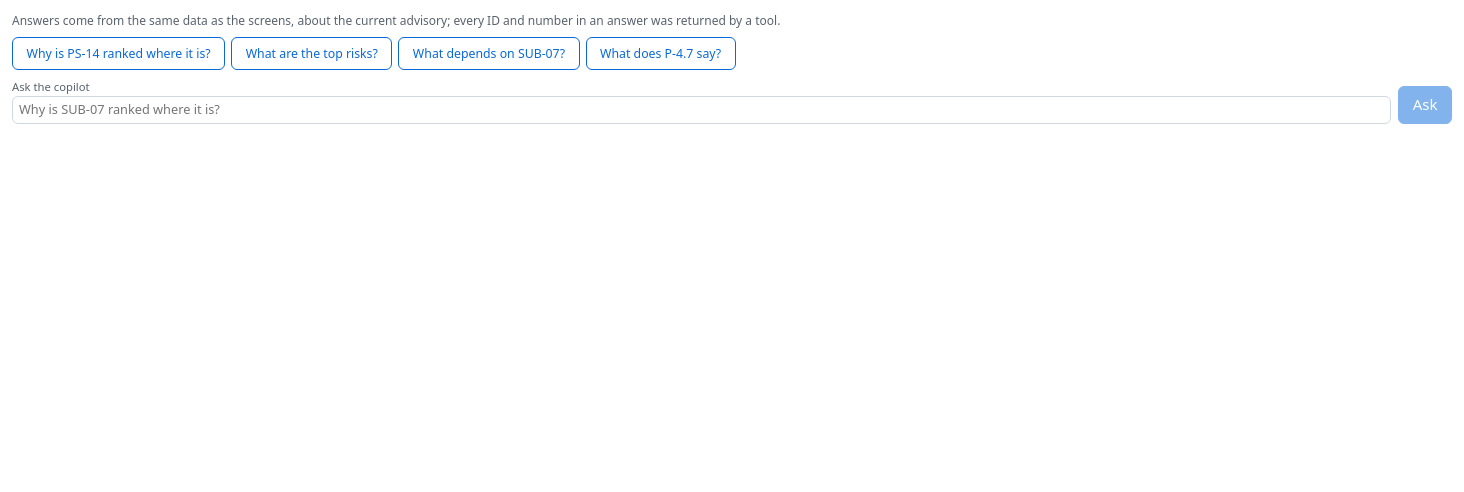
Test: a template fallback says the answer was not validated and why
What coordinates should you click on to do the following:
click the button "Why is PS-14 ranked where it is?"
I would click on:
 (119, 54)
Its box is [12,37,225,70].
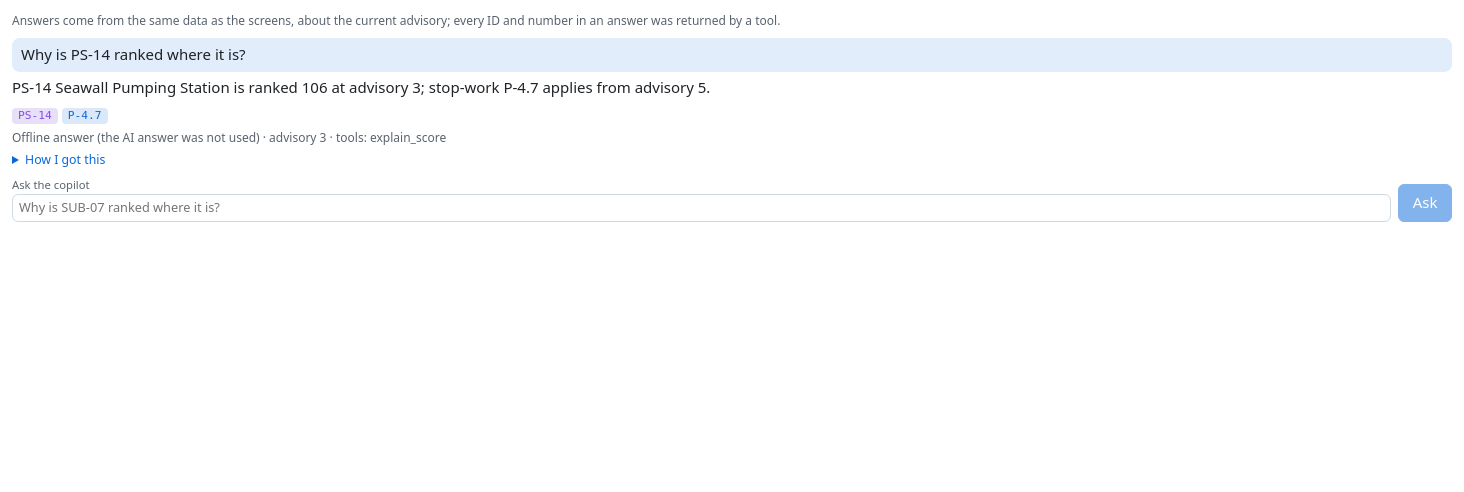
What coordinates should you click on to do the following:
click the heading "How I got this"
I would click on:
 (65, 159)
Its box is [25,151,105,168].
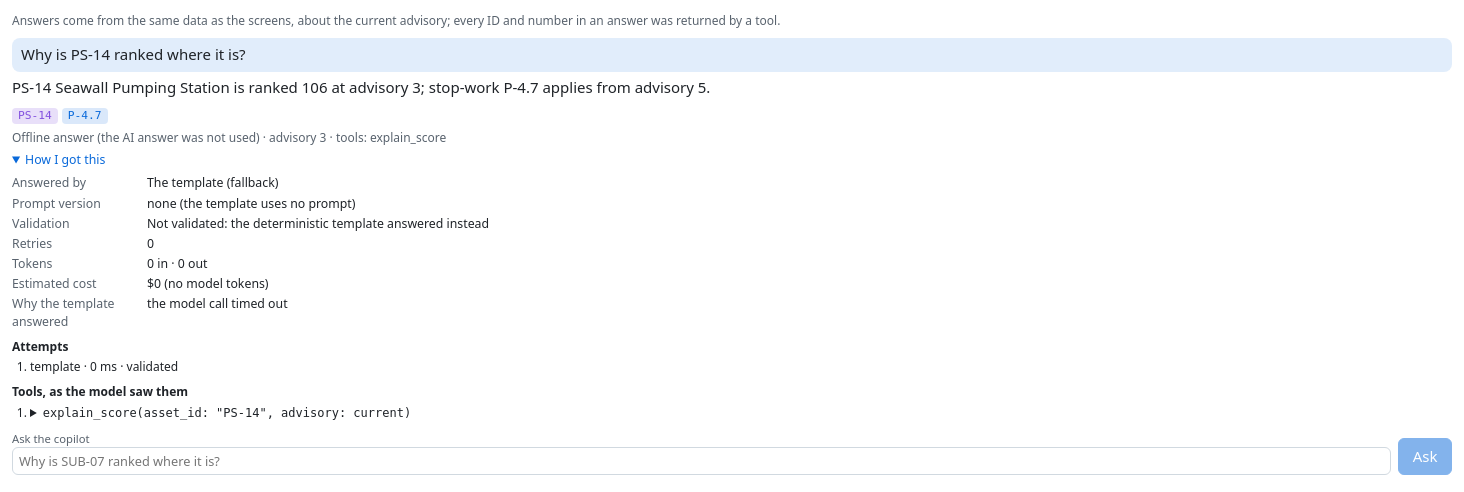
expect the text "The template (fallback)" is shown: met, box [147,174,278,191]
expect the text "Not validated: the deterministic template answered instead" is shown: met, box [147,215,489,232]
expect the text "the model call timed out" is shown: met, box [147,295,288,312]
